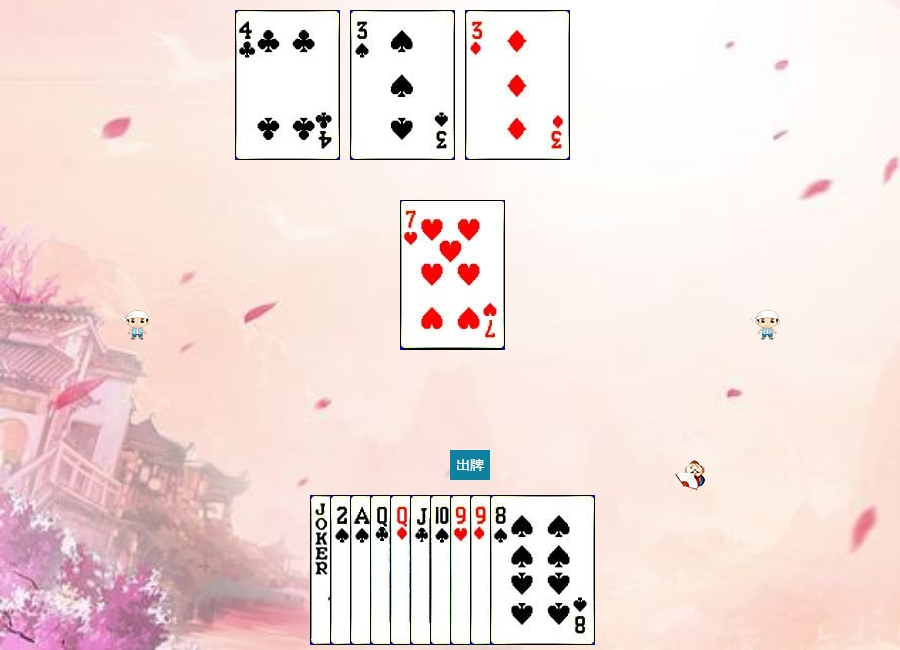10~4: (430, 495, 535, 645)
11~2: (410, 495, 515, 645)
12~1: (390, 495, 495, 645)
12~2: (370, 495, 475, 645)
14~4: (350, 495, 455, 645)
15~4: (330, 495, 435, 645)
17~3: (310, 495, 415, 645)
3~1: (465, 10, 570, 160)
3~4: (350, 10, 455, 160)
4~2: (235, 10, 340, 160)
7~3: (400, 200, 505, 350)
8~4: (490, 495, 595, 645)
9~1: (470, 495, 575, 645)
9~3: (450, 495, 555, 645)
